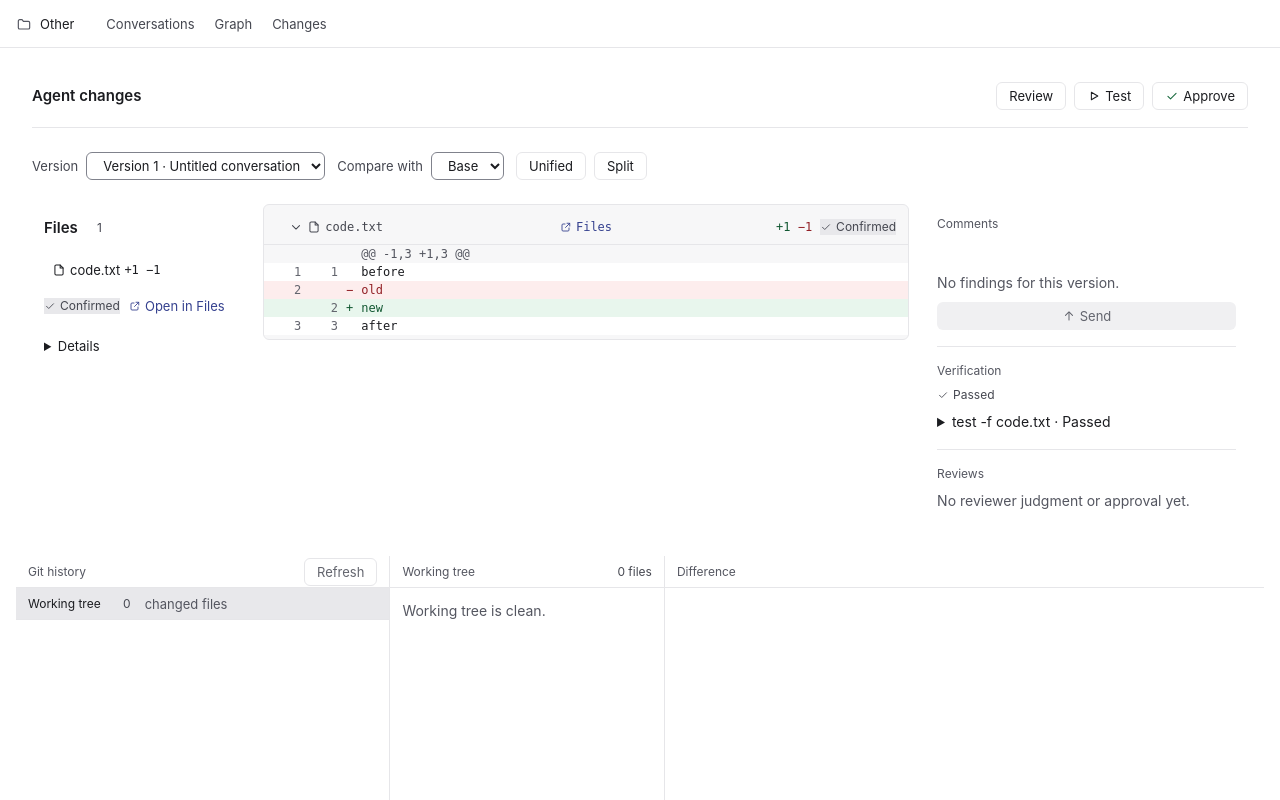
Test: sends a finding cmd pinned to the artifact and selected range
The image size is (1280, 800).
Click the button with aria-label "Comment on code.txt new line 2".
click(372, 308)  # box [361, 299, 900, 317]
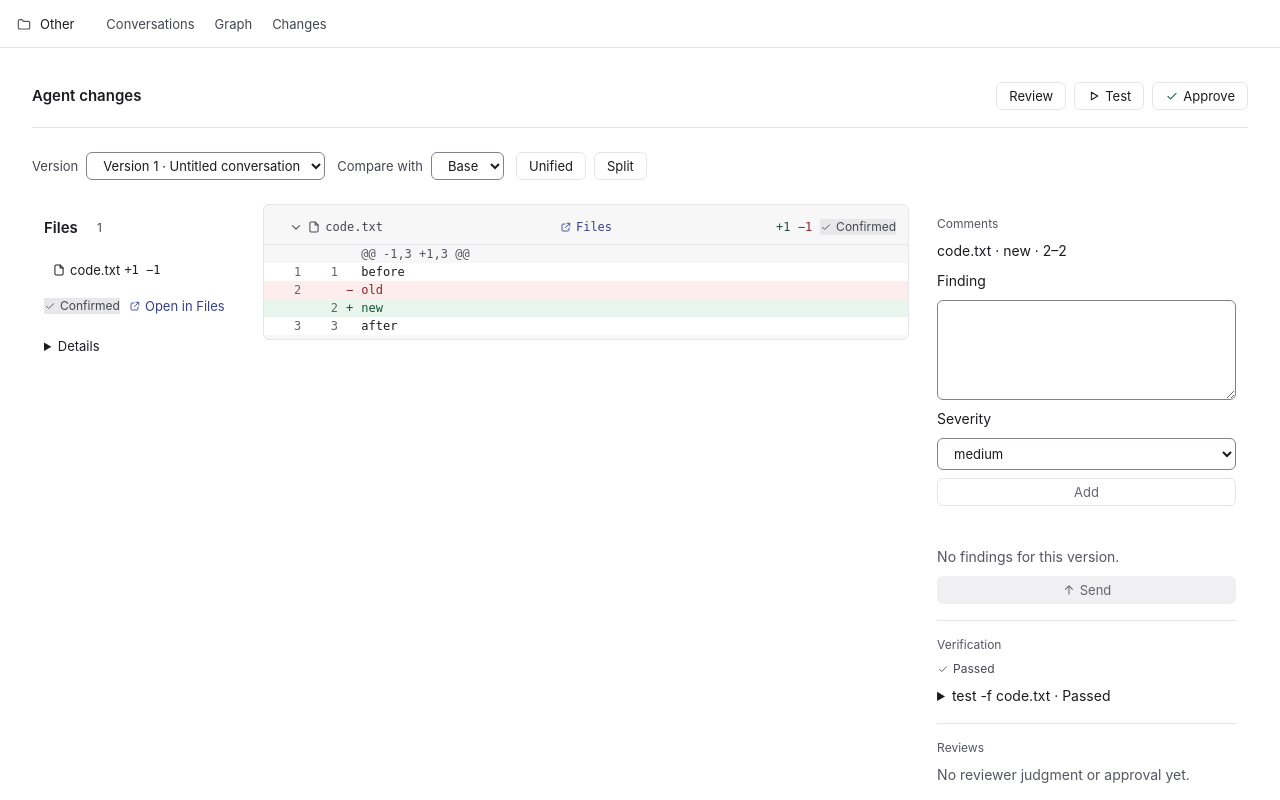
Click the button with aria-label "Comment on code.txt new line 3".
click(379, 326)  # box [361, 317, 900, 335]
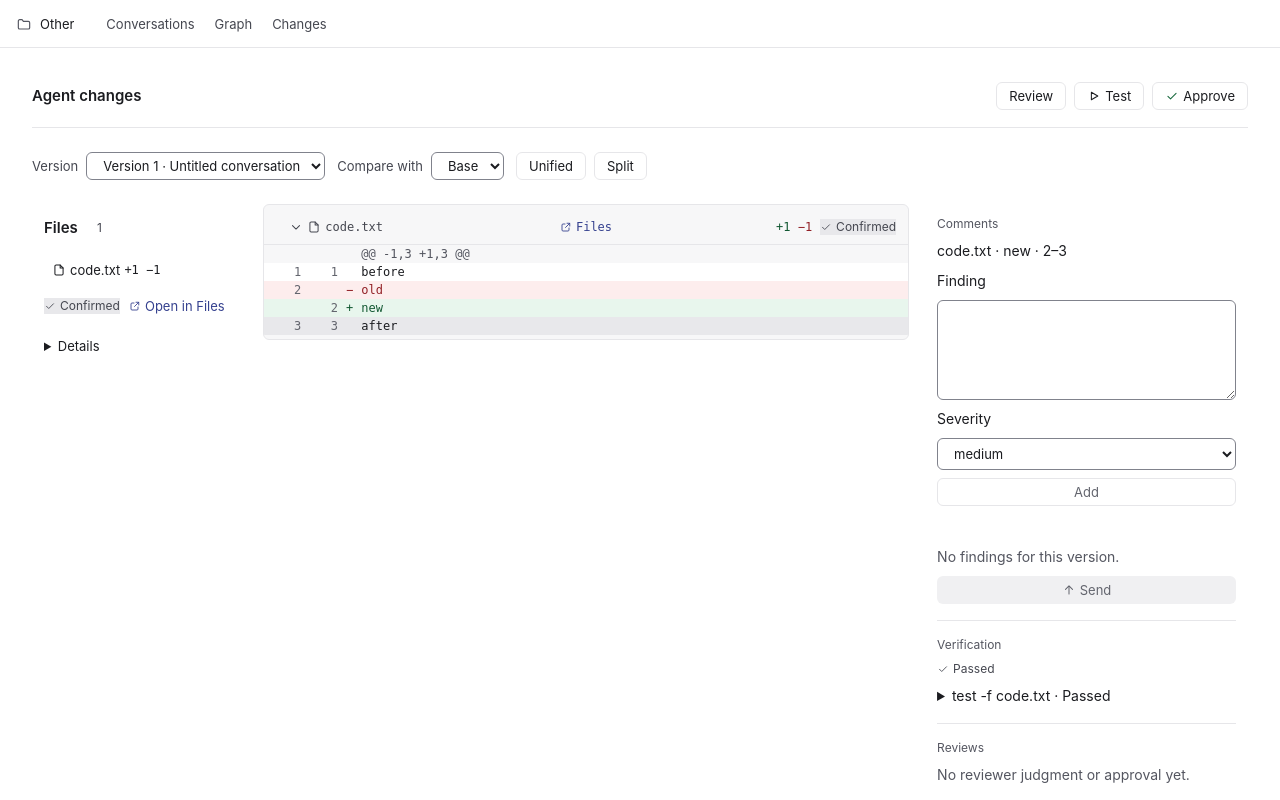
Type "Fix the range" into the text box labelled "Finding".
click(1087, 350); type("Fix the range")  # box [937, 300, 1236, 400]
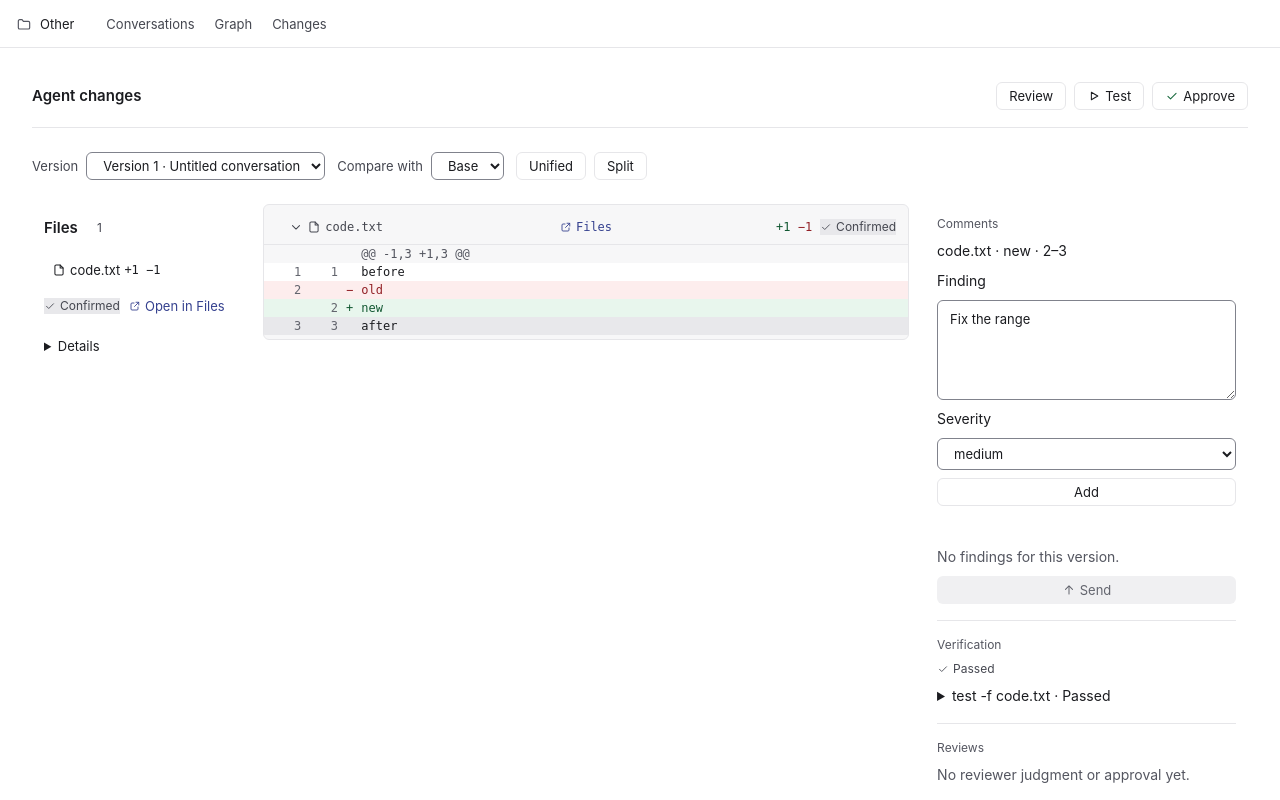
Select "high" in the dropdown labelled "Severity" at [1087, 454], box [937, 438, 1236, 470]
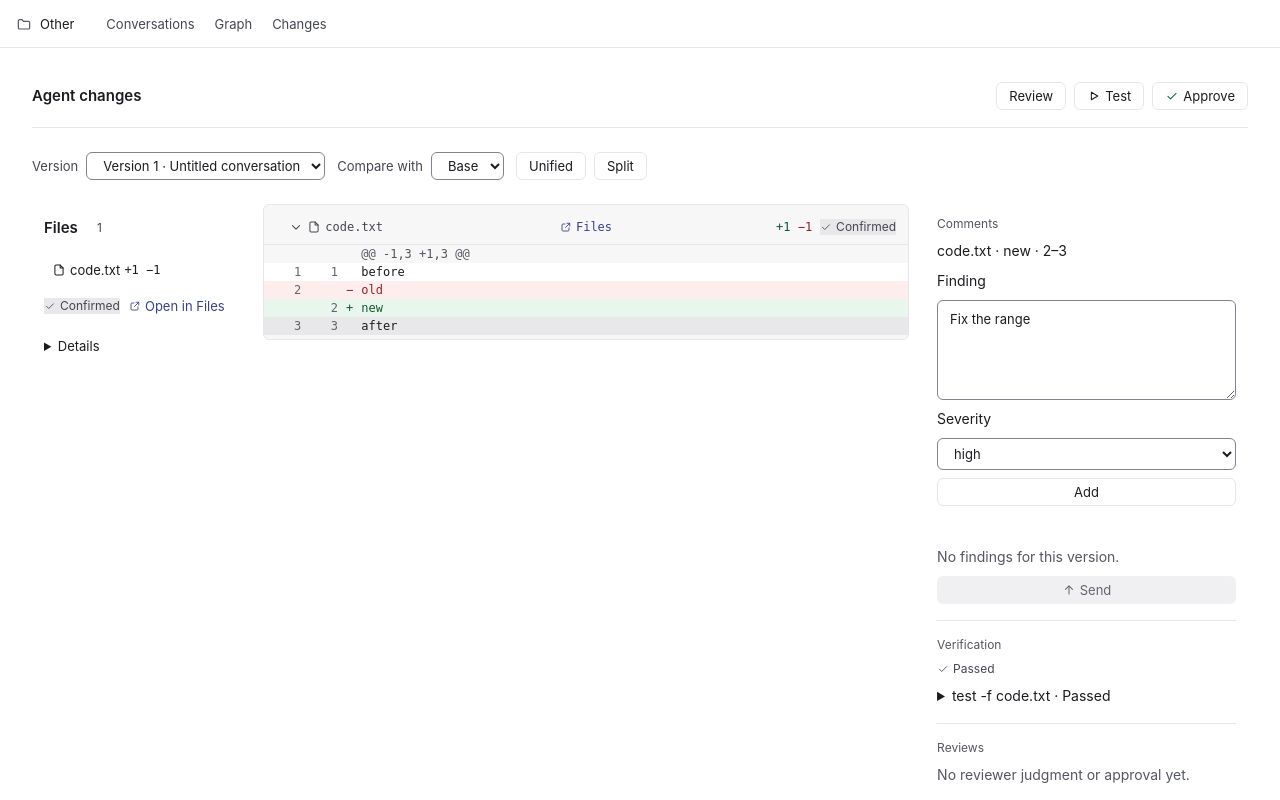
Click the button "Add".
click(1087, 492)  # box [937, 478, 1236, 506]
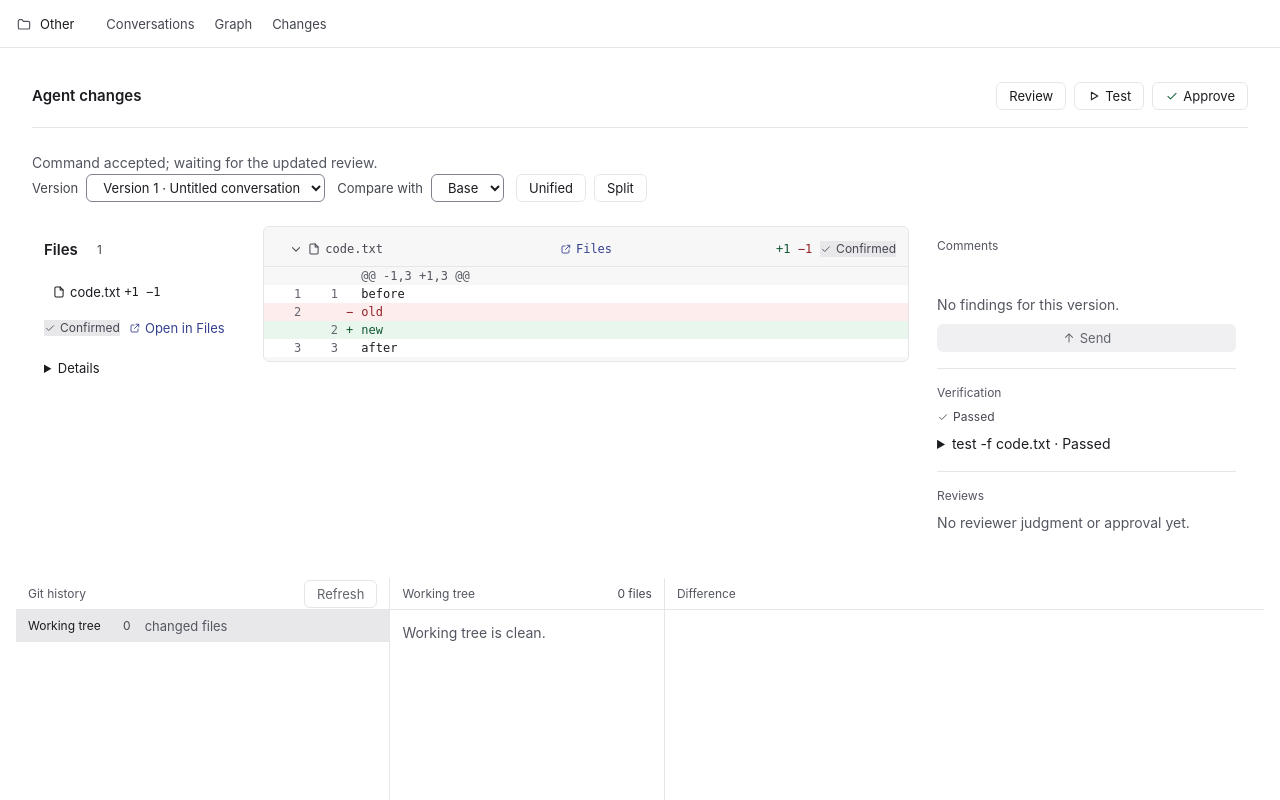
Now the message "Command accepted; waiting for the updated review." is shown, box [32, 154, 378, 171]
